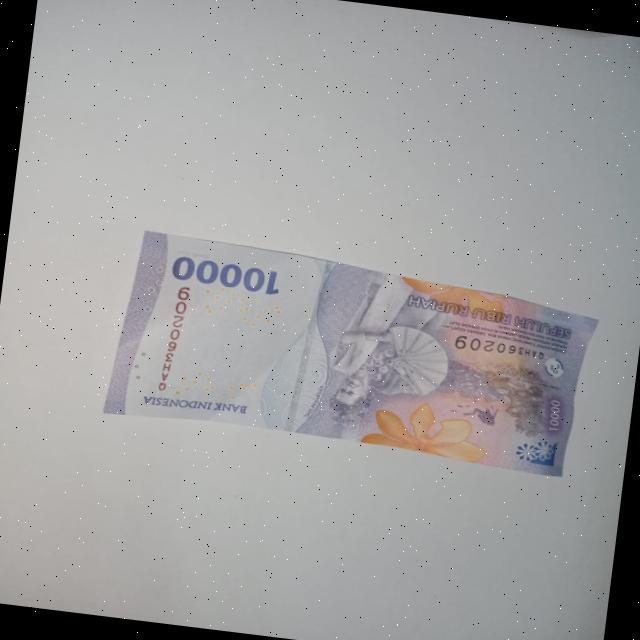10K: (90, 216, 608, 496)
